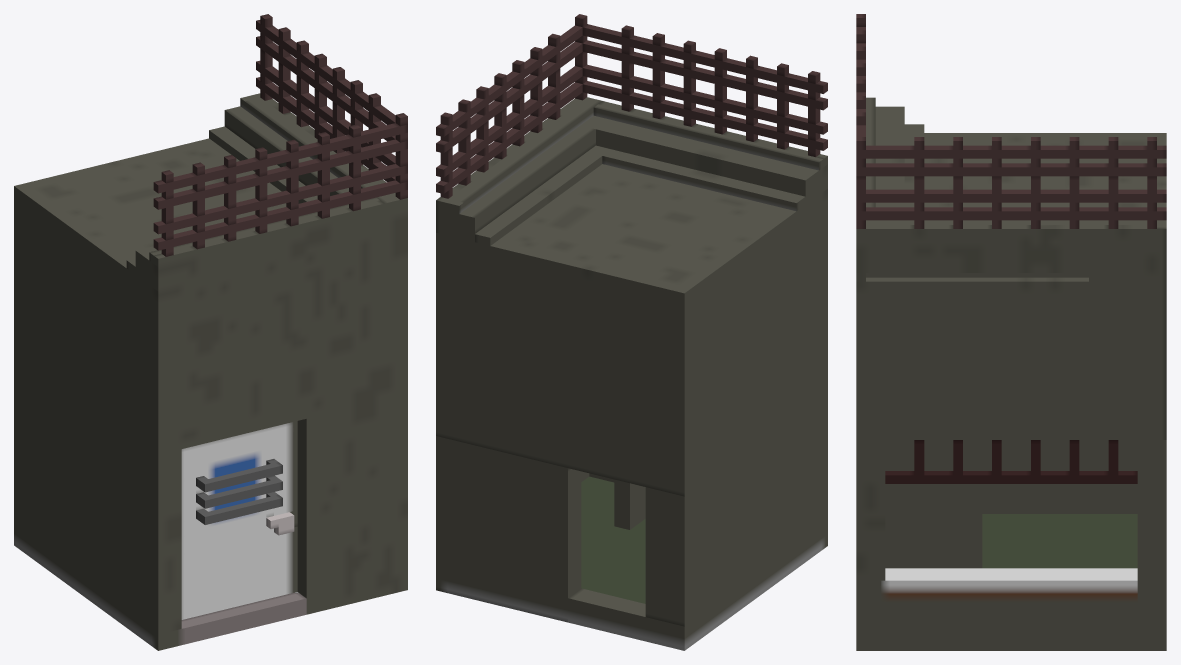
The model's file is res_front_okno.dae.
3 views of the same model, side by side, from view 1: azimuth 30°, elevation 25°; view 2: azimuth 150°, elevation 25°; view 3: azimuth 270°, elevation 25° (orthographic). The views are drawn at different scales.
Visible parts, largest first — view 1: Content; view 2: Content; view 3: Content.
Boxes of the visible parts, x1,y1,x2,y2 form: Content: (14,14,407,650); Content: (436,14,827,650); Content: (856,14,1166,650).
Size of the model in its own units: 32 by 58 by 32.
1 material, 1 textured.
